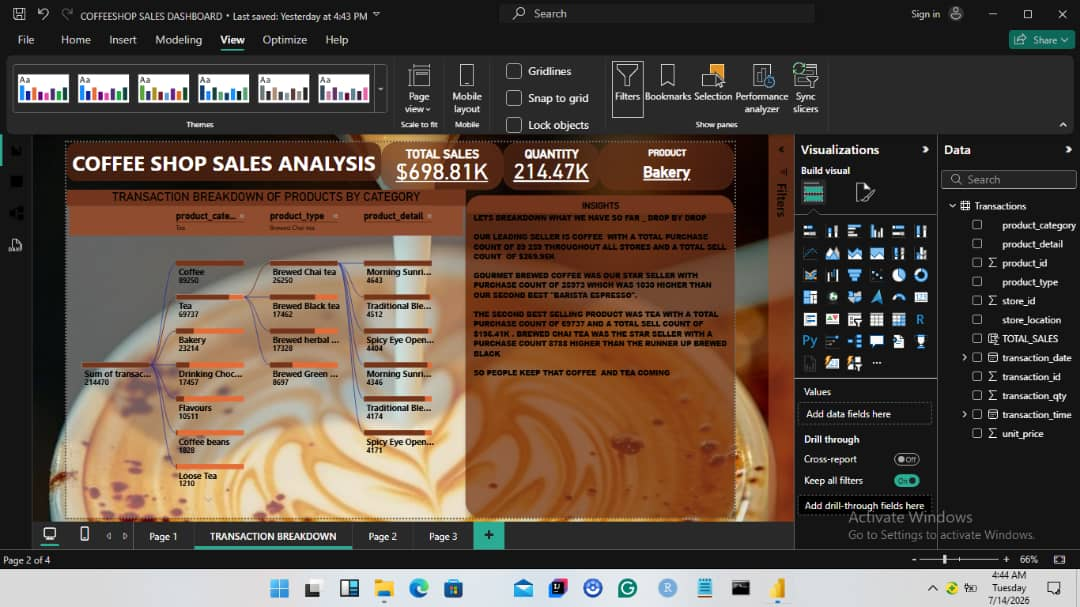

What the dashboard file says about the page in this screenshot:
{"tool":"powerbi","page":{"name":"TRANSACTION BREAKDOWN","canvas":[1280,720],"ordinal":1},"visuals":[{"type":"card","title":"TOTAL SALES","fields":{"Values":["Sum(Transactions.TOTAL_SALES)"]},"box":[603.5,0,233,91.1],"z":0},{"type":"shape","box":[0,0,603.5,74.7],"z":1000},{"type":"decompositionTreeVisual","title":"TRANSACTION BREAKDOWN OF PRODUCTS BY CATEGORY","fields":{"ExplainBy":["Transactions.product_category","Transactions.product_type","Transactions.product_detail"],"Analyze":["Sum(Transactions.transaction_qty)"]},"box":[0,91.1,764.8,628.9],"z":2000},{"type":"card","title":"QUANTITY","fields":{"Values":["Sum(Transactions.transaction_qty)"]},"box":[836.5,0,185.2,91.1],"z":3000},{"type":"card","title":"PRODUCT","fields":{"Values":["Min(Transactions.product_category)"]},"box":[1021.7,0,258.4,91.1],"z":4000},{"type":"textbox","title":"INSIGHTS","box":[764.8,101.6,515.4,618.4],"z":5000}]}

Visuals, with their boxes on the page's 1280x720 design canvas (x1, y1, x2, y2). These are canvas units, not pixel positions in the 1080x607 screenshot, which may show the page scaled, cropped or inside an application window:
"TOTAL SALES" card: crop(604, 0, 836, 91)
shape: crop(0, 0, 604, 75)
"TRANSACTION BREAKDOWN OF PRODUCTS BY CATEGORY" decompositionTreeVisual: crop(0, 91, 765, 720)
"QUANTITY" card: crop(836, 0, 1022, 91)
"PRODUCT" card: crop(1022, 0, 1280, 91)
"INSIGHTS" textbox: crop(765, 102, 1280, 720)
